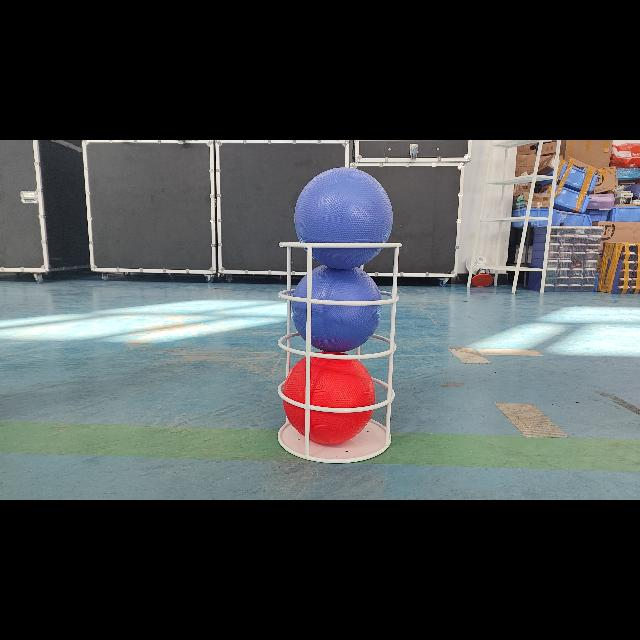B: (294, 168, 394, 268), (290, 265, 382, 353)
R: (282, 352, 376, 443)
S: (266, 236, 408, 466)
